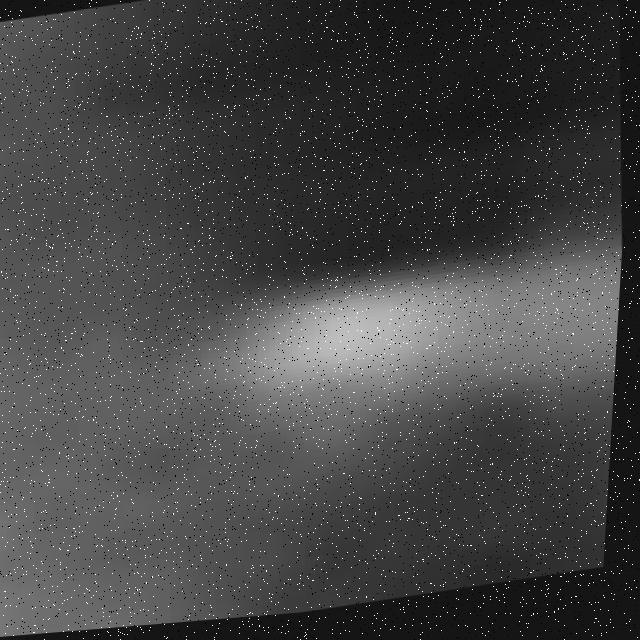person: (202, 249, 628, 488)
